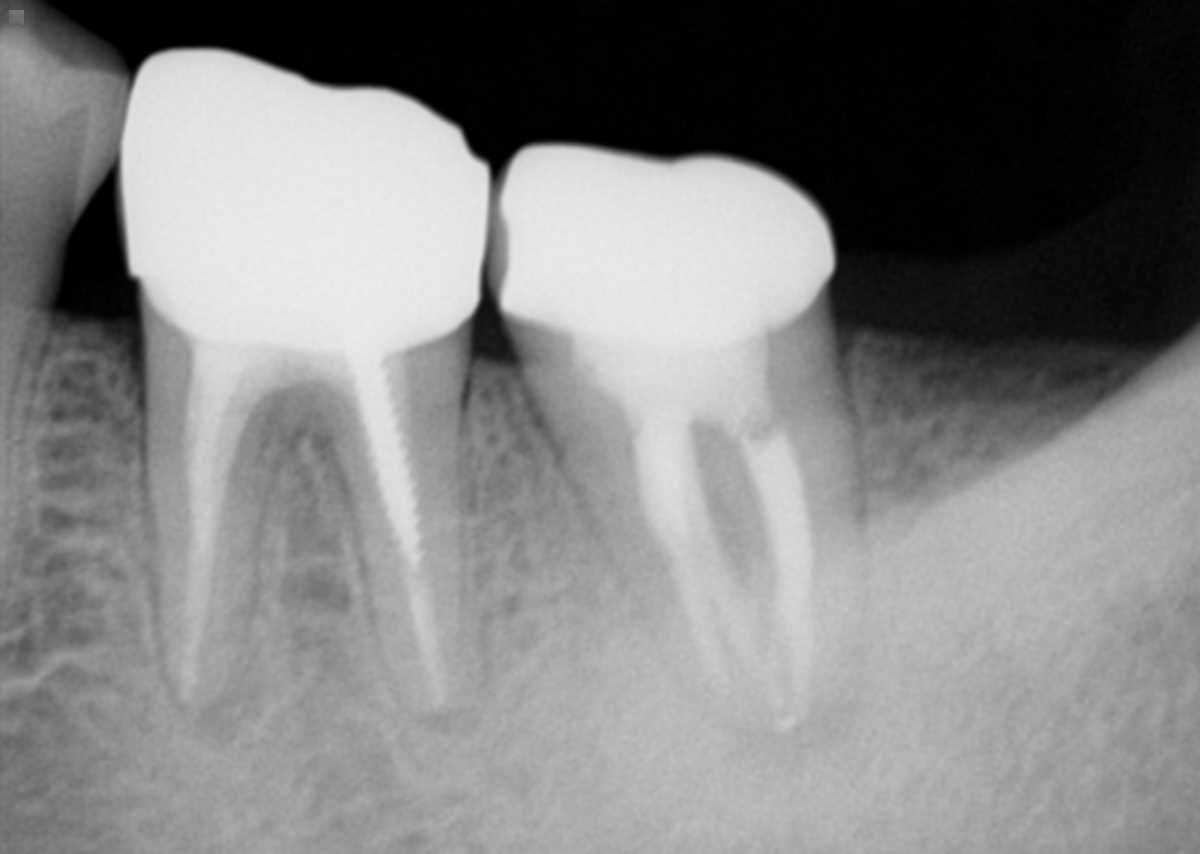Apical Lesion: (180, 653, 271, 746), (427, 649, 502, 742)
Distal Root: (722, 357, 867, 727), (322, 368, 468, 714)
Main Root: (0, 320, 46, 640)
Mesial Root: (528, 398, 777, 734), (148, 338, 308, 703)
Root Canal Filling: (637, 416, 795, 703), (175, 348, 266, 696), (739, 419, 810, 724), (402, 552, 447, 709)
